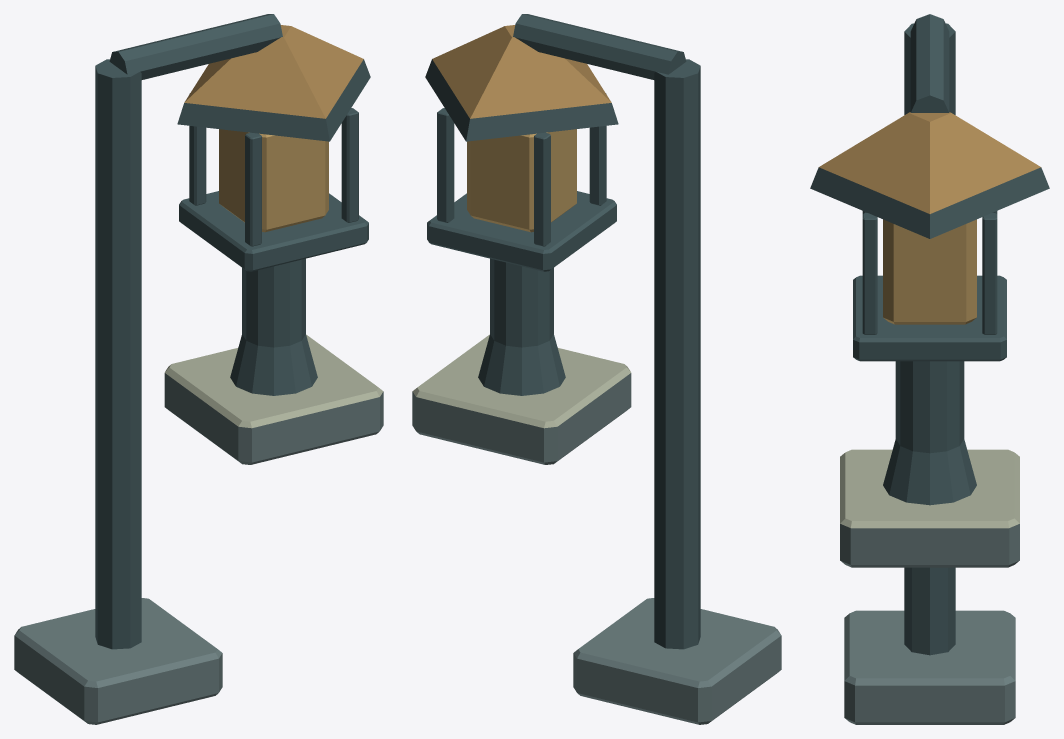
The model's file is lantern-hook.glb.
The picture shows the model from 3 angles, left to right: view 1: azimuth 30°, elevation 25°; view 2: azimuth 150°, elevation 25°; view 3: azimuth 270°, elevation 25°; orthographic projection. The views are drawn at different scales.
Parts seen in each view (by area): view 1: lantern-hook__body; view 2: lantern-hook__body; view 3: lantern-hook__body.
Boxes of the visible parts, left/top/right/bottom form: lantern-hook__body: left=14, top=14, right=383, bottom=724; lantern-hook__body: left=412, top=14, right=781, bottom=724; lantern-hook__body: left=810, top=14, right=1049, bottom=724.
Size of the model in its own units: 0.93 by 1.75 by 0.56.
